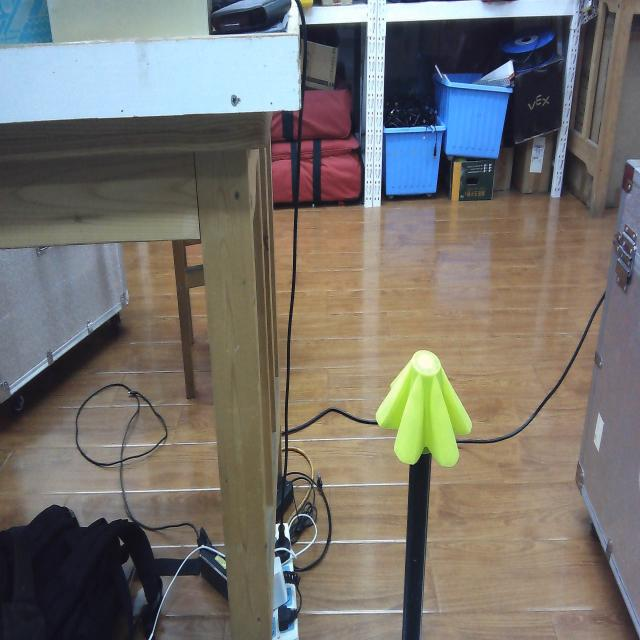Yellow-Stake-Head: (376, 349, 472, 468)
